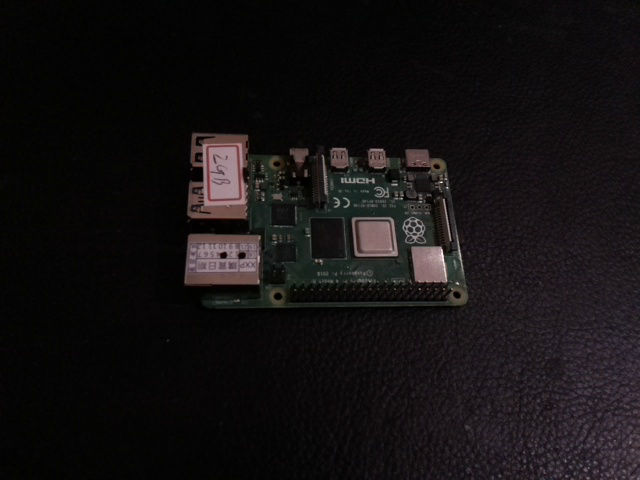pi4: (174, 87, 473, 386)
